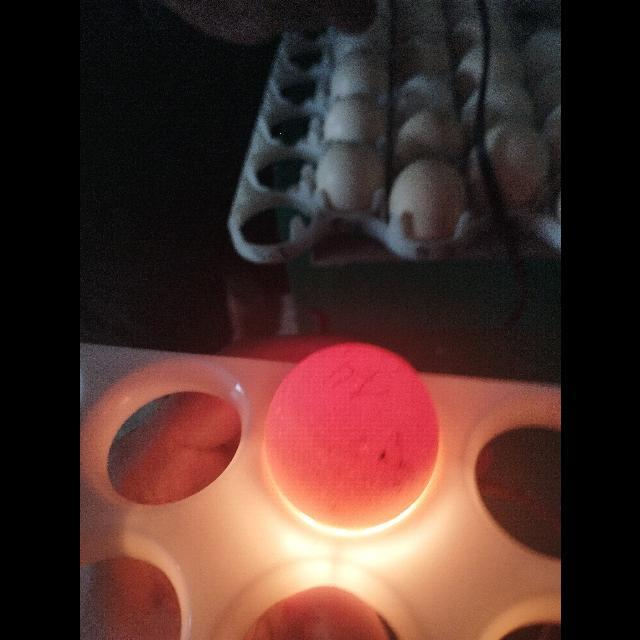A - Good: (261, 340, 443, 538)
